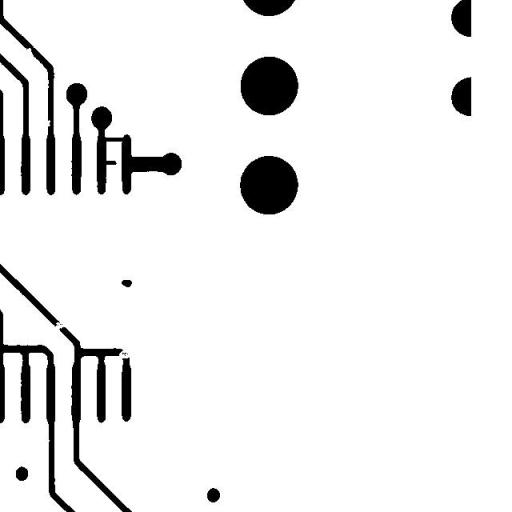copper: (114, 272, 139, 294)
mousebite: (18, 40, 40, 62), (38, 112, 58, 134)
open: (105, 340, 136, 368), (43, 314, 73, 340)
short: (91, 130, 134, 148)
spur: (94, 153, 124, 172)
